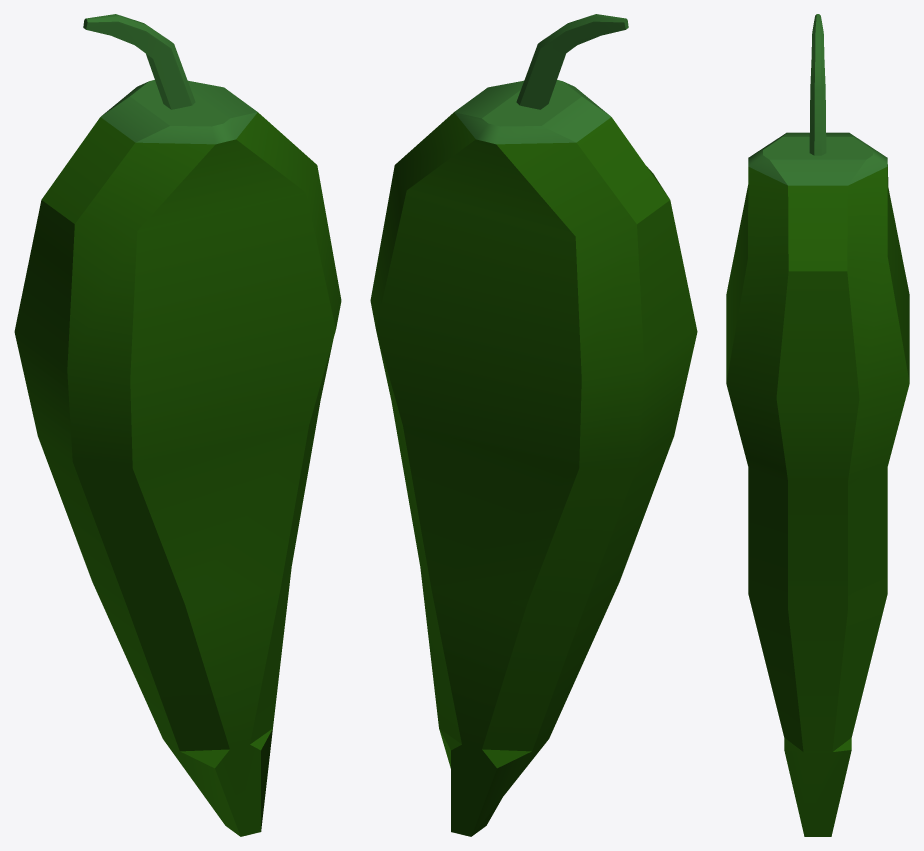
Rendered from Jalapeno.fbx.
3 views of the same model, side by side, from view 1: azimuth 30°, elevation 25°; view 2: azimuth 150°, elevation 25°; view 3: azimuth 270°, elevation 25° (orthographic). The views are drawn at different scales.
Visible parts, largest first — view 1: Jalapeno; view 2: Jalapeno; view 3: Jalapeno.
Part boxes in pixels (x1,y1,x2,y2): Jalapeno: (14,14,341,836); Jalapeno: (370,14,697,836); Jalapeno: (726,14,909,836).
Bounding box in the file's own units: 7.79 × 22.79 × 5.05.
